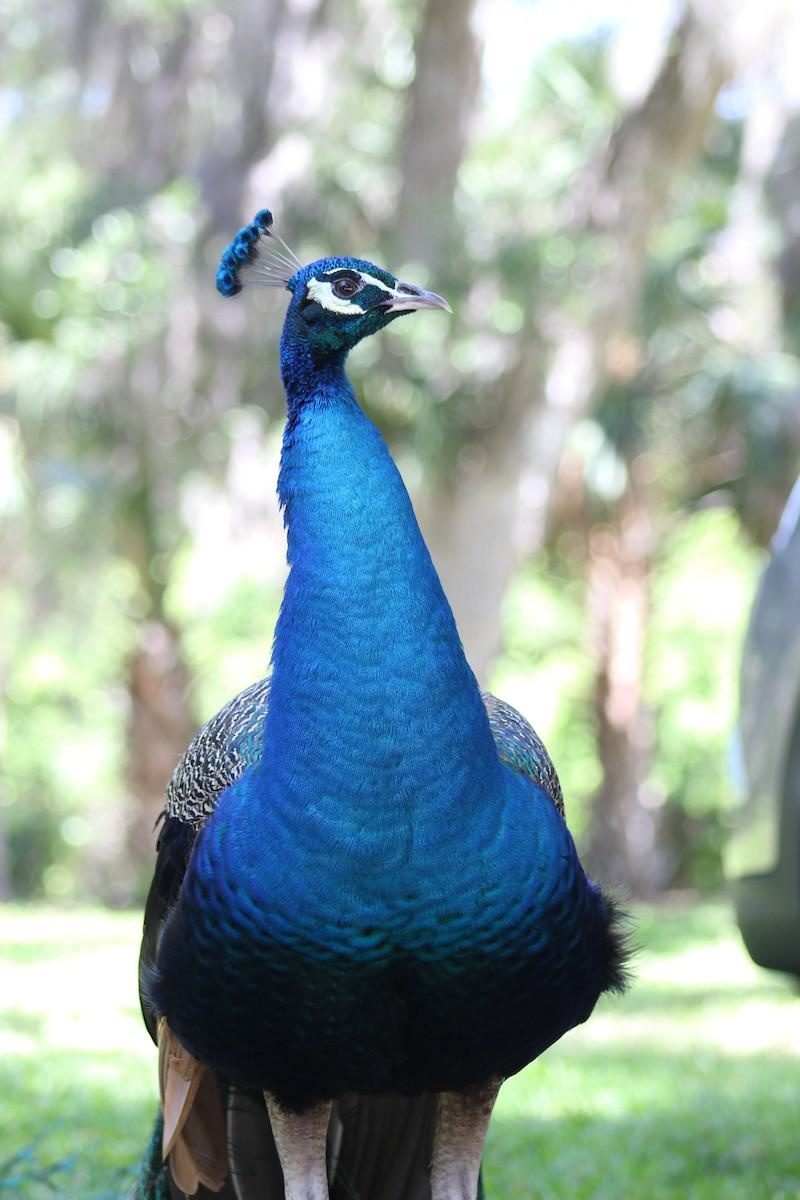peacock: (162, 151, 642, 1159)
